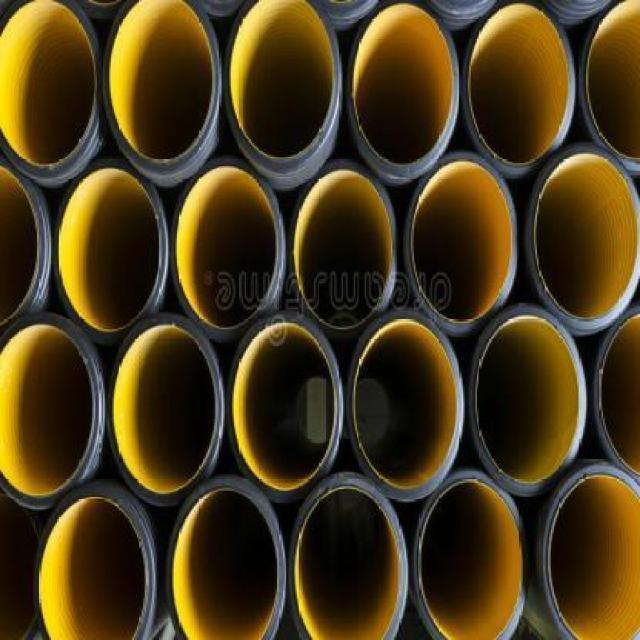pipe: (106, 312, 225, 505), (468, 305, 586, 498), (348, 311, 465, 500), (526, 145, 640, 331), (102, 1, 222, 177), (169, 157, 285, 339), (228, 317, 342, 502), (286, 469, 409, 640), (51, 160, 167, 340), (345, 0, 461, 180), (224, 1, 339, 177), (0, 311, 100, 511), (165, 474, 285, 640), (414, 469, 530, 640), (463, 2, 576, 173), (408, 154, 516, 331), (36, 485, 157, 640), (290, 163, 396, 334), (0, 0, 100, 180), (540, 460, 640, 640), (582, 0, 640, 171), (595, 306, 640, 477), (2, 159, 47, 328)
